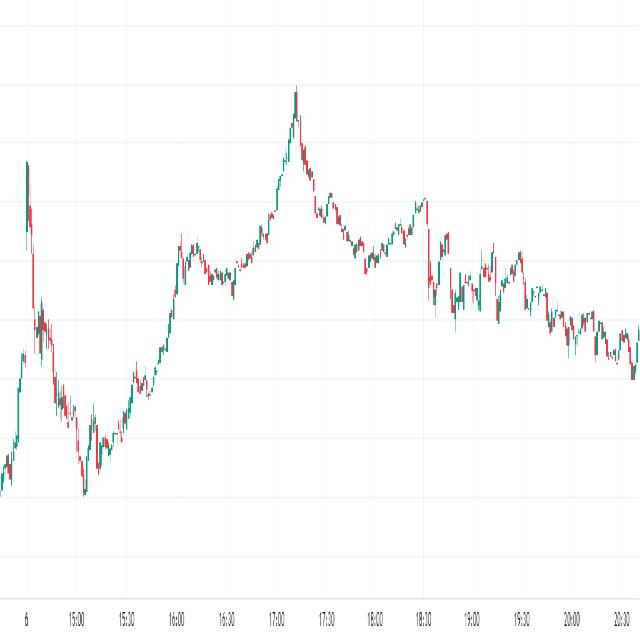Rounding-Bottom: (34, 300, 174, 503), (328, 184, 428, 284), (190, 220, 266, 307)
